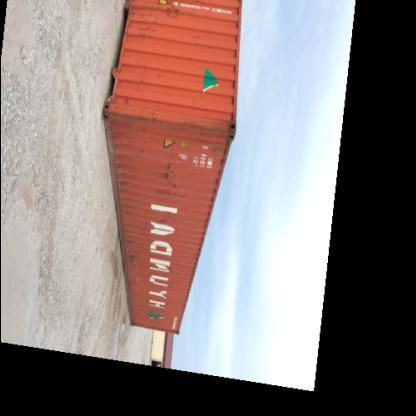Damage: (112, 95, 166, 133), (152, 154, 188, 204), (182, 115, 236, 143), (134, 2, 162, 44), (126, 233, 150, 268), (164, 2, 187, 18)
